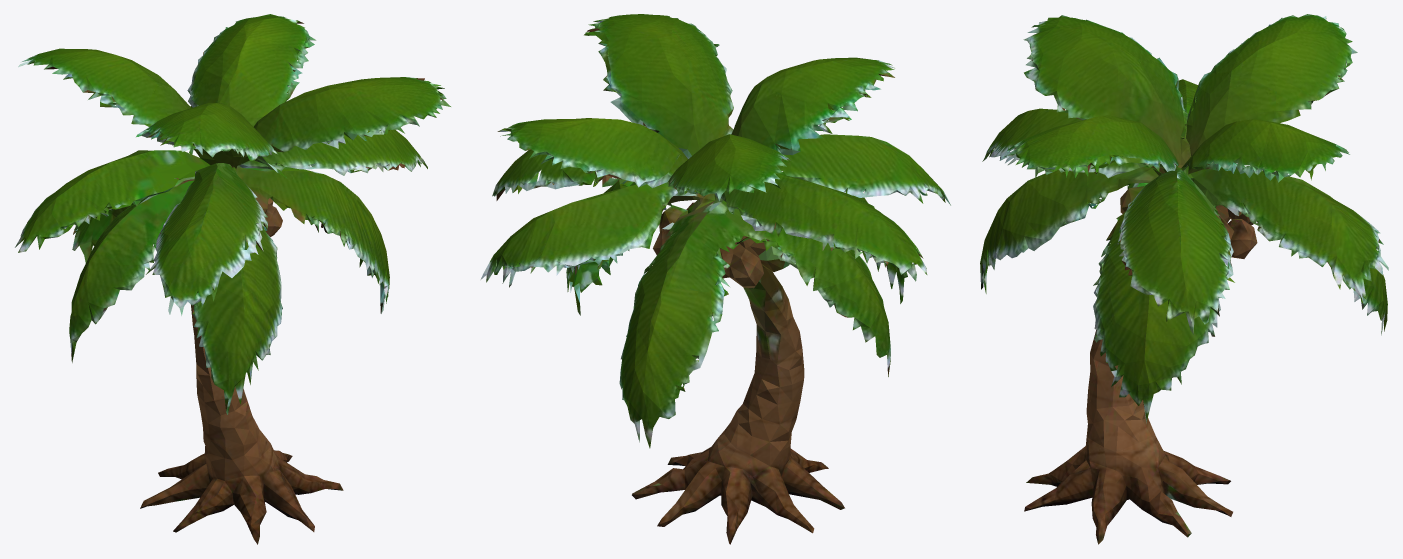
File: palm_tree.glb
3 views of the same model, side by side, from view 1: azimuth 30°, elevation 25°; view 2: azimuth 150°, elevation 25°; view 3: azimuth 270°, elevation 25° (orthographic). The views are drawn at different scales.
Visible parts, largest first — view 1: tmp5e22d40a.ply; view 2: tmp5e22d40a.ply; view 3: tmp5e22d40a.ply.
Boxes of the visible parts, box(x1,y1,x2,y2) form: tmp5e22d40a.ply: box(15, 14, 450, 544); tmp5e22d40a.ply: box(480, 14, 950, 544); tmp5e22d40a.ply: box(980, 14, 1388, 544).
Size of the model in its own units: 1.97 by 1.93 by 1.62.
Materials: 1 (1 with a texture image).
